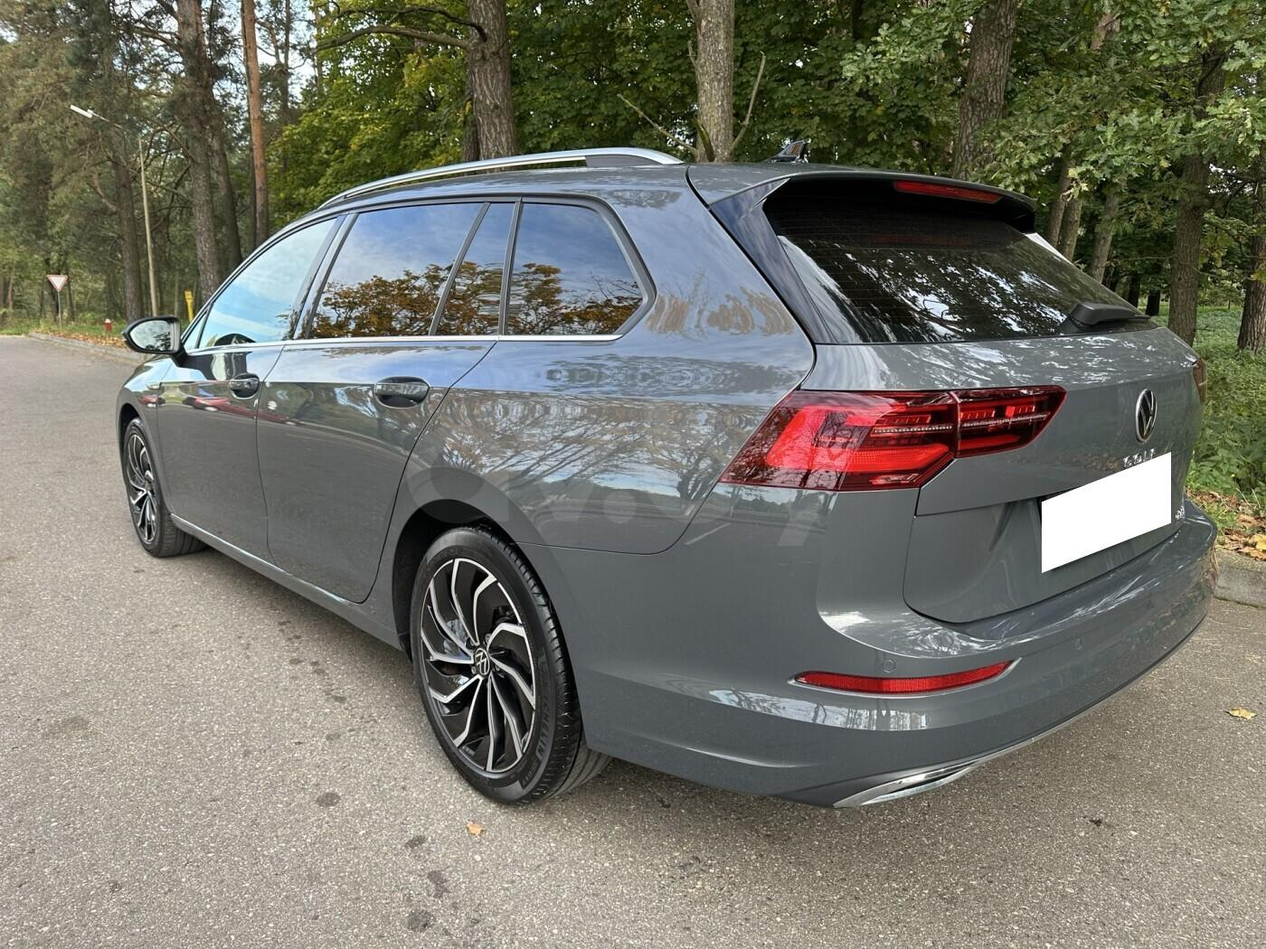Golf_2019: (119, 150, 1238, 830)
